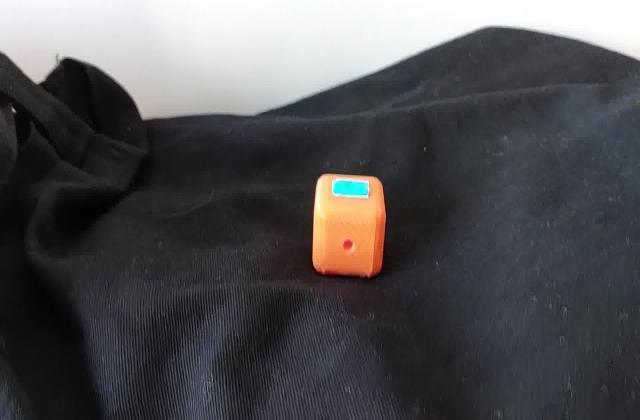blue: (337, 183, 364, 194)
cube: (310, 170, 390, 283)
